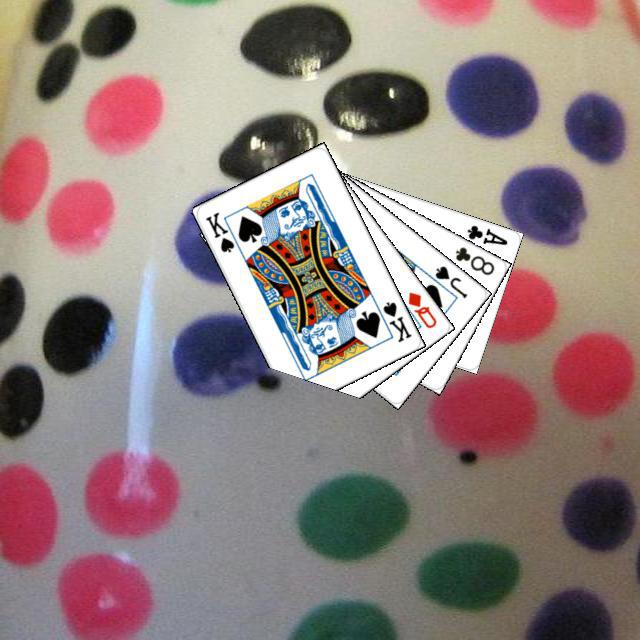8c: (450, 242, 496, 277)
Ac: (462, 220, 509, 247)
Js: (430, 261, 469, 300)
Ks: (201, 207, 243, 254), (378, 297, 413, 344)
Qd: (403, 287, 438, 330)
